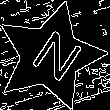N_SW: (18, 24, 82, 88)
